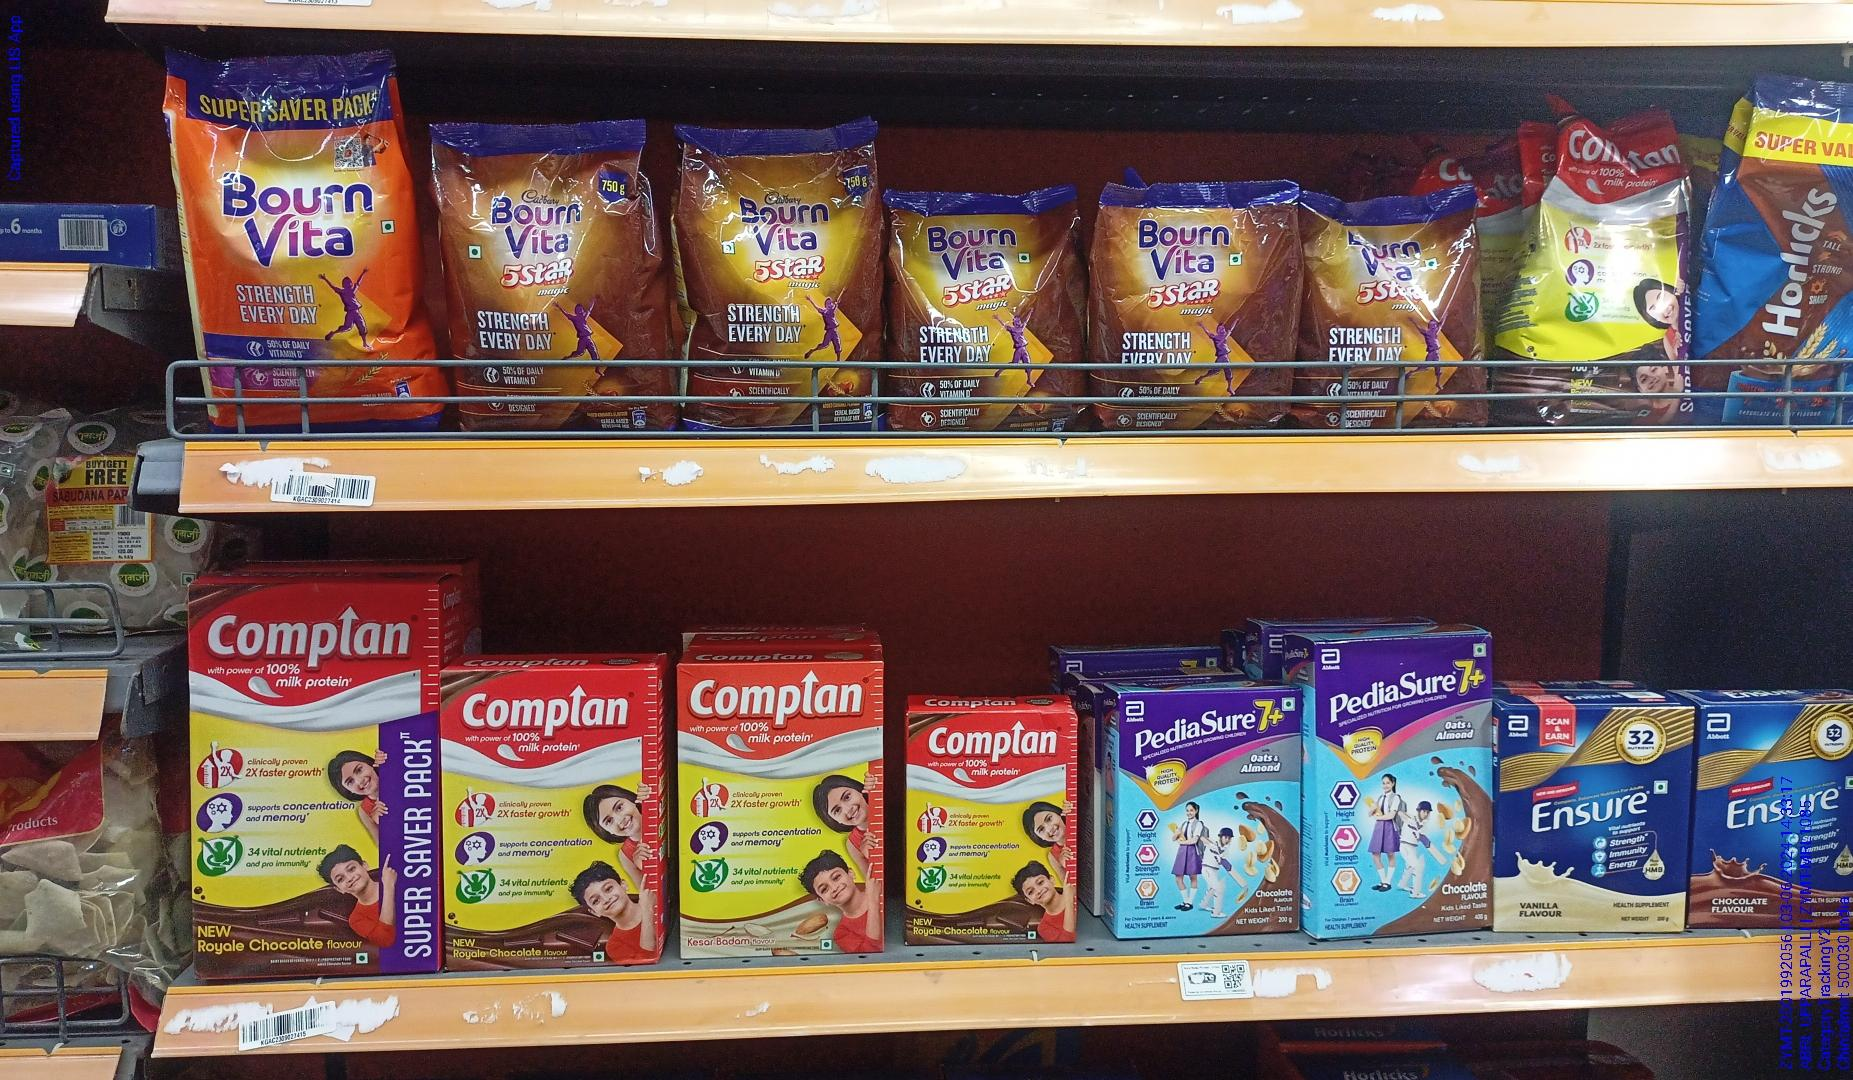BOURN_VITA_750_G_POUCH: (167, 60, 430, 428)
BOURN_VITA_FIVE_STAR_MAGIC_500_G_POUCH: (1105, 177, 1290, 426), (898, 194, 1085, 418), (1321, 188, 1470, 426)
BOURN_VITA_FIVE_STAR_MAGIC_750_G_POUCH: (438, 118, 666, 431), (685, 132, 888, 436)
COMPLAN_CHOCOLATE_1_KG_PACK: (184, 582, 434, 971)
COMPLAN_CHOCOLATE_200_GMS_PACK: (907, 706, 1078, 940)
COMPLAN_KESAR_BADAM_500_GMS_PACK: (676, 671, 887, 960)
COMPLAN_RC_POUCH_700_GMS_12: (1479, 113, 1686, 420)
ENSURE_VANILLA_400_G_PACK: (1494, 703, 1686, 935)
HORLICK_CHOCOLATE_750_G_POUCH: (1686, 63, 1853, 413)
PEDIASURE_7_PLUS_CHOCOLATE_400_G_PACK: (1122, 697, 1298, 927)
